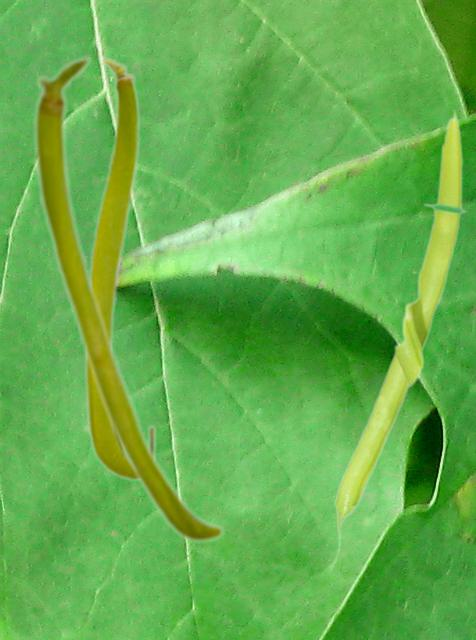french_bean: (32, 54, 225, 544), (329, 106, 467, 571), (83, 55, 156, 481)
